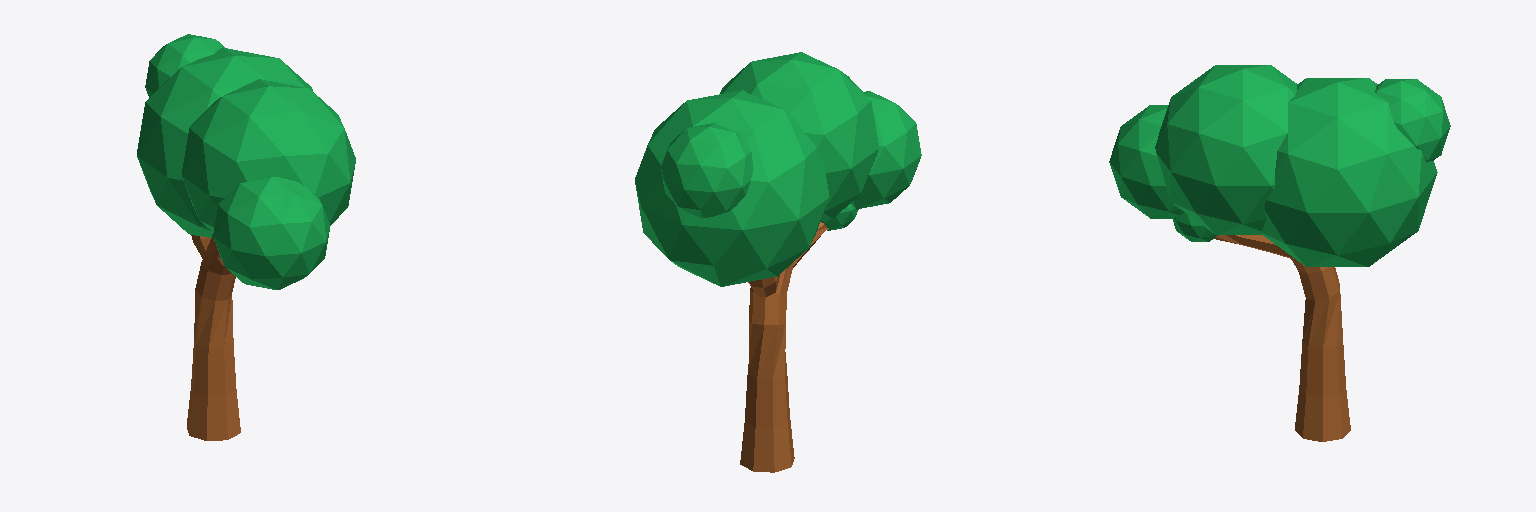
3 renders of one model, left to right at view 1: azimuth 30°, elevation 25°; view 2: azimuth 150°, elevation 25°; view 3: azimuth 270°, elevation 25°, orthographic.
Parts seen in each view (by area): view 1: Icosphere.004; view 2: Icosphere.004; view 3: Icosphere.004.
Boxes of the visible parts, x1,y1,x2,y2 form: Icosphere.004: [137, 34, 355, 440]; Icosphere.004: [635, 52, 921, 472]; Icosphere.004: [1109, 65, 1450, 441].
Bounding box in the file's own units: 9.47 × 18.73 × 15.72.
1 materials, 1 textured.